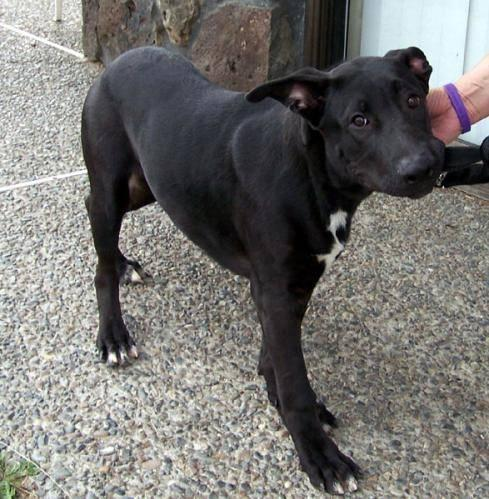dog: (82, 47, 445, 493)
